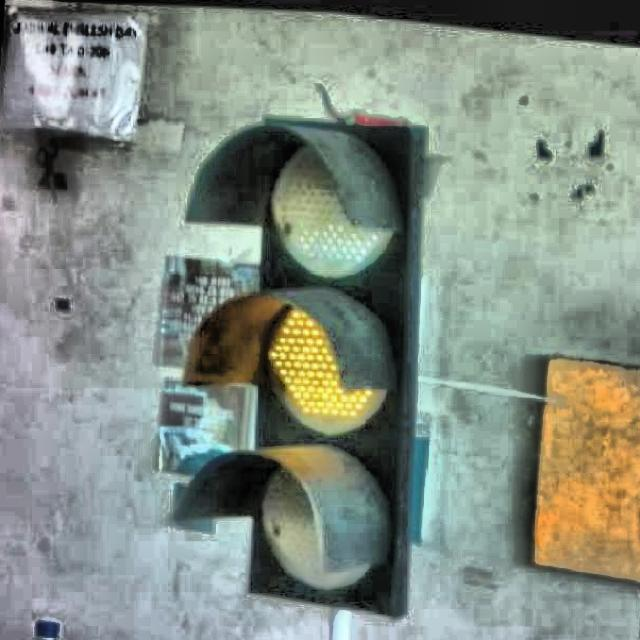yellow: (251, 119, 408, 614)
